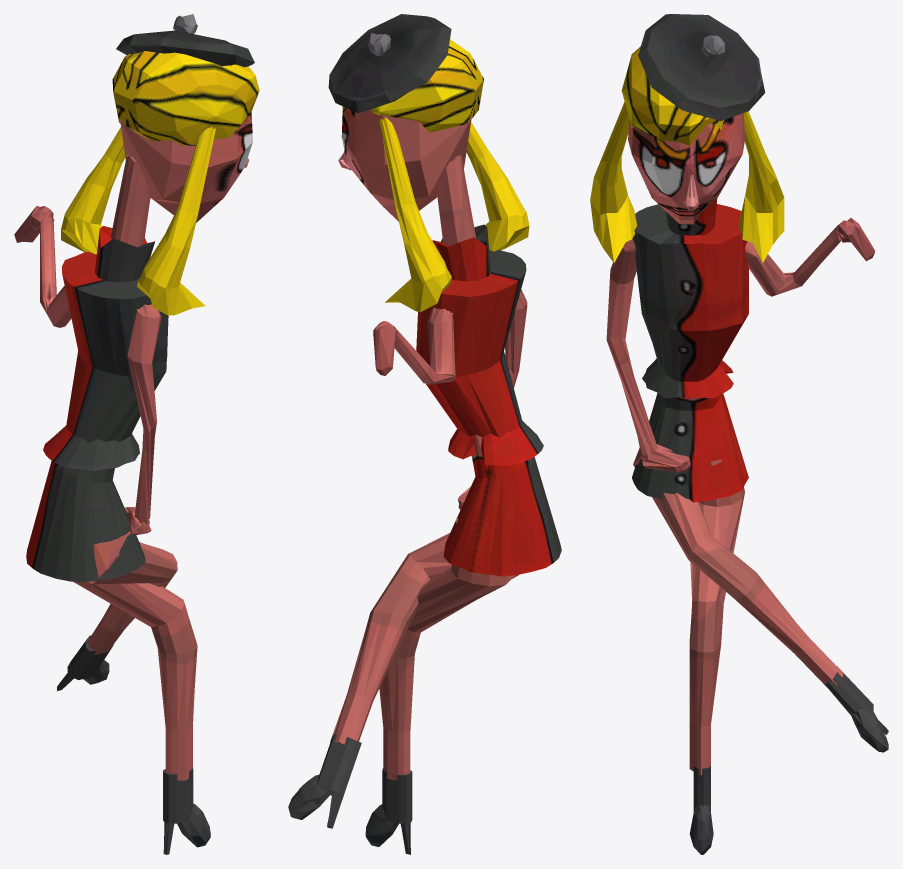
Rendered from Rogale.glb.
The picture shows the model from 3 angles, left to right: view 1: azimuth 30°, elevation 25°; view 2: azimuth 150°, elevation 25°; view 3: azimuth 270°, elevation 25°; orthographic projection. The views are drawn at different scales.
Parts seen in each view (by area): view 1: Rogale; view 2: Rogale; view 3: Rogale.
Part boxes in pixels (x1,y1,x2,y2): Rogale: [14, 14, 259, 854]; Rogale: [288, 14, 561, 854]; Rogale: [590, 14, 888, 854].
Size of the model in its own units: 71.91 by 264 by 87.86.
Materials: 1 (1 with a texture image).
